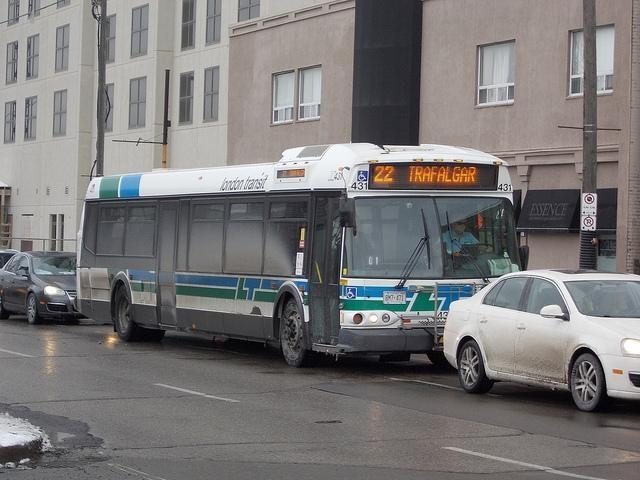bus: (77, 141, 523, 370)
car: (441, 266, 640, 414), (1, 250, 76, 323), (0, 246, 12, 288)
